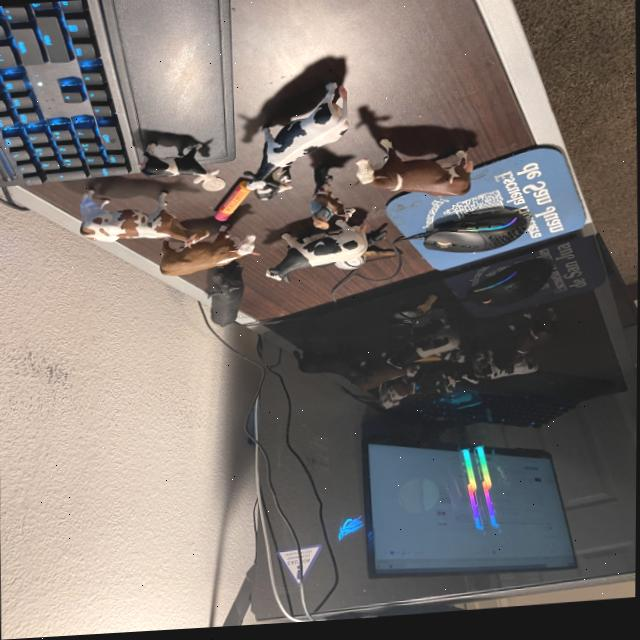cow: (224, 81, 366, 198), (352, 139, 476, 208), (78, 188, 211, 249), (261, 220, 371, 283), (153, 220, 259, 282), (137, 144, 220, 187), (205, 261, 247, 332), (249, 166, 299, 208), (311, 191, 356, 227)
person: (308, 199, 335, 235)
